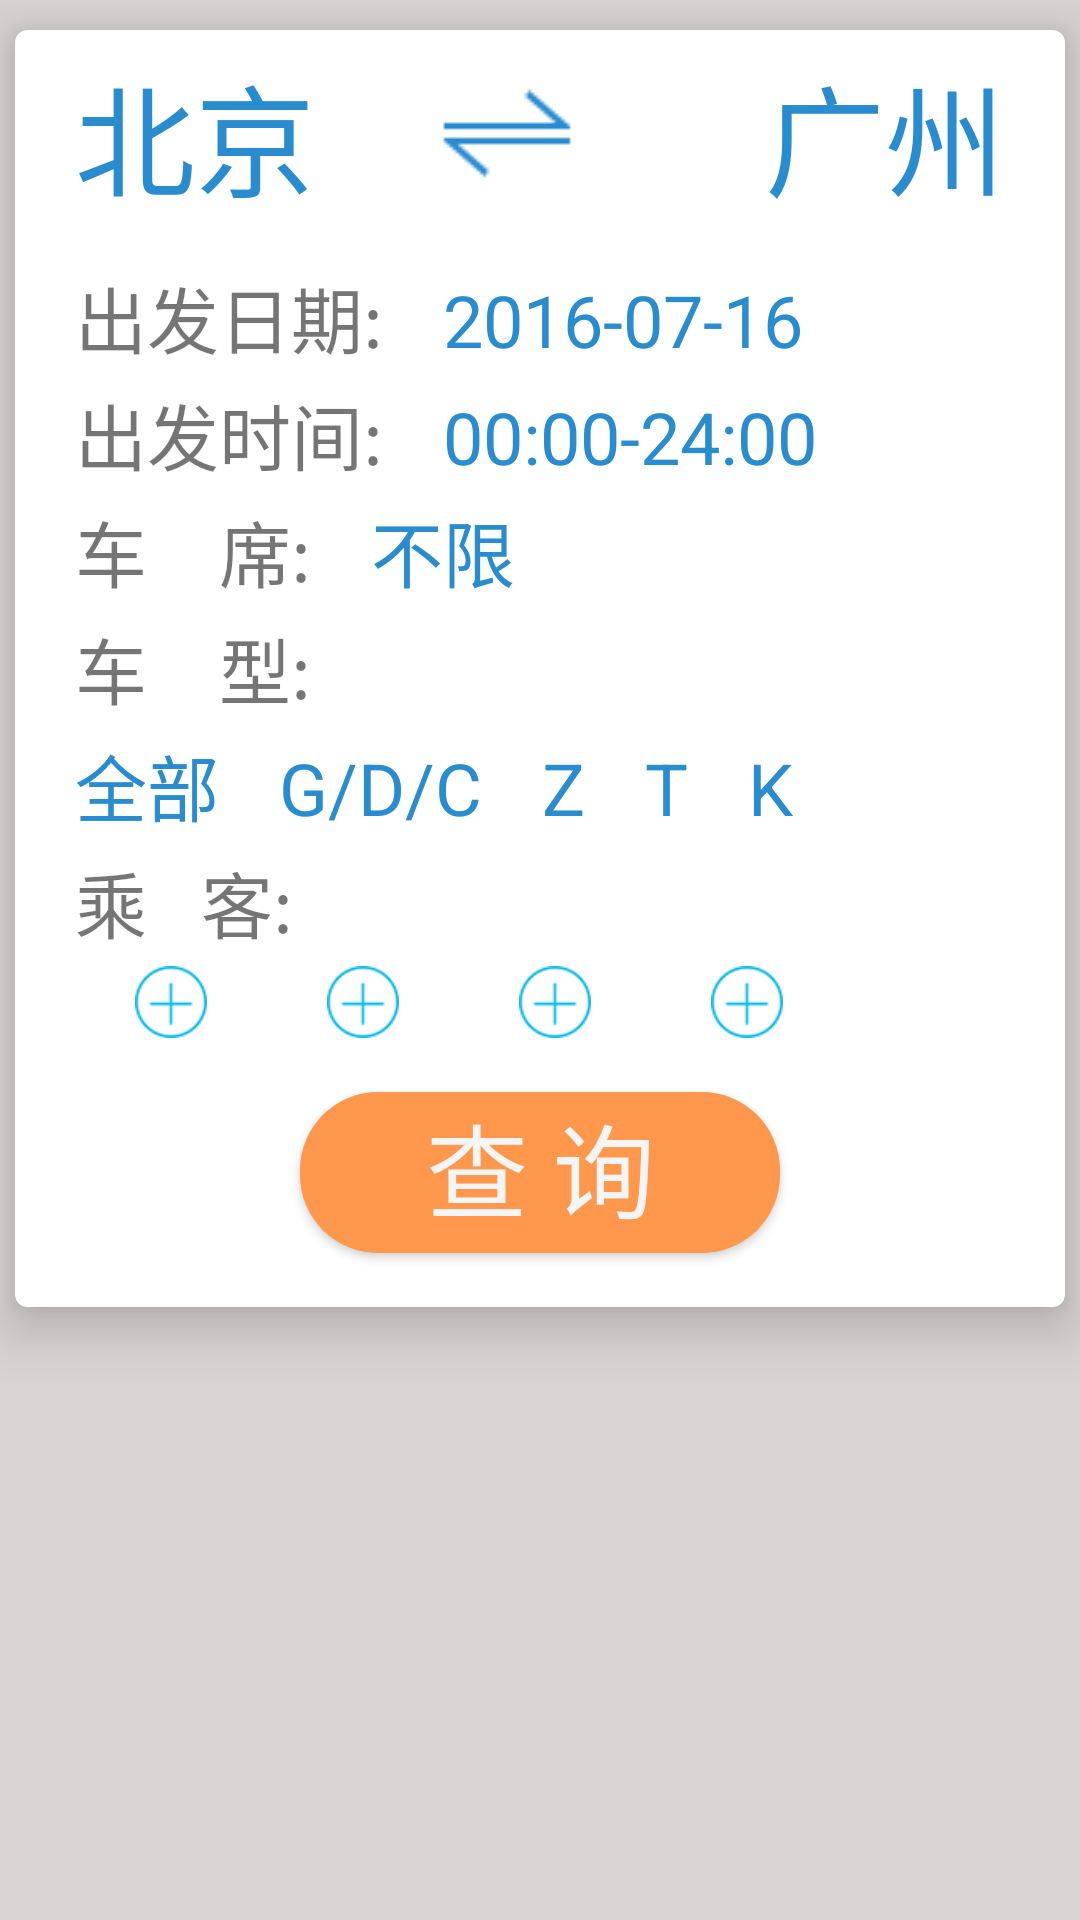

Point at icon controls on the screen. Image size 1080 x 1920, points as point (x, y).
add pro: point (171, 1002), point (363, 1002), point (555, 1002), point (747, 1002)
exchange: point (507, 133)
